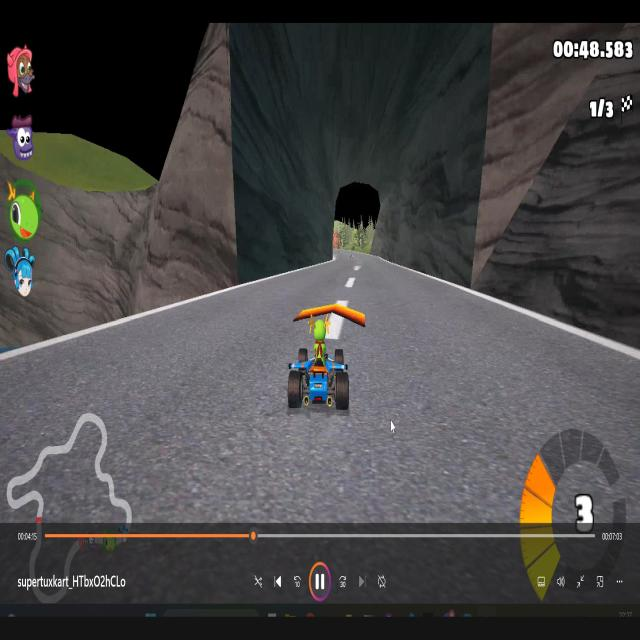player_kart: (287, 324, 354, 417)
power_up: (296, 303, 370, 329)
track: (379, 310, 552, 450), (164, 307, 281, 505), (331, 249, 379, 296)
